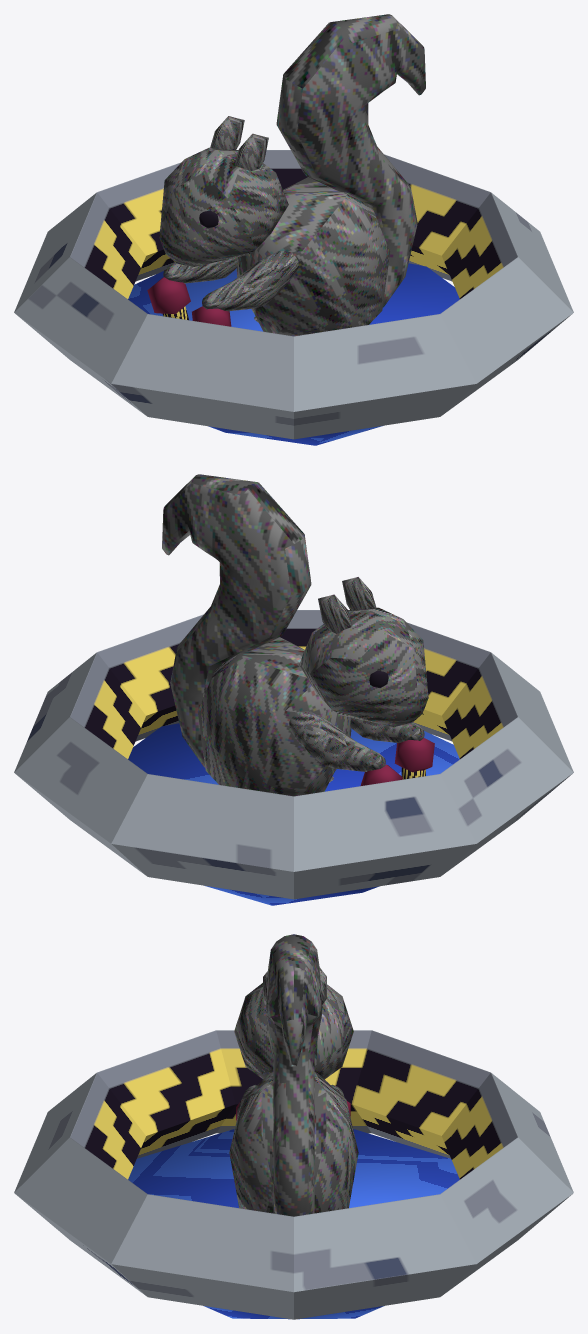
File: squirell.glb
The picture shows the model from 3 angles, top to bottom: view 1: azimuth 30°, elevation 25°; view 2: azimuth 150°, elevation 25°; view 3: azimuth 270°, elevation 25°; orthographic projection.
Parts seen in each view (by area): view 1: SaucerRim, Tail, Body, Head, SaucerBase, LeftArm, RightControlStick, RightArm, LeftEar, RightEar, LeftControlStick; view 2: SaucerRim, Tail, Body, Head, SaucerBase, RightArm, LeftControlStick, LeftArm, RightEar, LeftEar; view 3: SaucerRim, Tail, SaucerBase, Body, Head.
Part boxes in pixels (x1,y1,x2,y2): SaucerRim: [14, 150, 573, 439]; Tail: [276, 14, 425, 307]; Body: [236, 177, 390, 336]; Head: [159, 147, 288, 266]; SaucerBase: [128, 263, 459, 445]; LeftArm: [202, 251, 298, 311]; RightControlStick: [147, 277, 190, 320]; RightArm: [163, 257, 237, 283]; LeftEar: [234, 133, 268, 171]; RightEar: [210, 116, 244, 149]; LeftControlStick: [192, 306, 231, 326]; SaucerRim: [14, 610, 573, 899]; Tail: [162, 474, 311, 767]; Body: [197, 637, 351, 796]; Head: [299, 607, 428, 726]; SaucerBase: [128, 723, 459, 905]; RightArm: [289, 711, 385, 771]; LeftControlStick: [394, 738, 434, 779]; LeftArm: [350, 717, 424, 742]; RightEar: [318, 594, 352, 633]; LeftEar: [342, 577, 376, 610]; SaucerRim: [14, 1030, 573, 1319]; Tail: [266, 934, 321, 1216]; SaucerBase: [128, 1129, 459, 1319]; Body: [229, 1072, 358, 1213]; Head: [234, 983, 353, 1079].
Size of the model in its own units: 2.42 by 1.87 by 2.46.
Materials: 5 (3 with a texture image).
